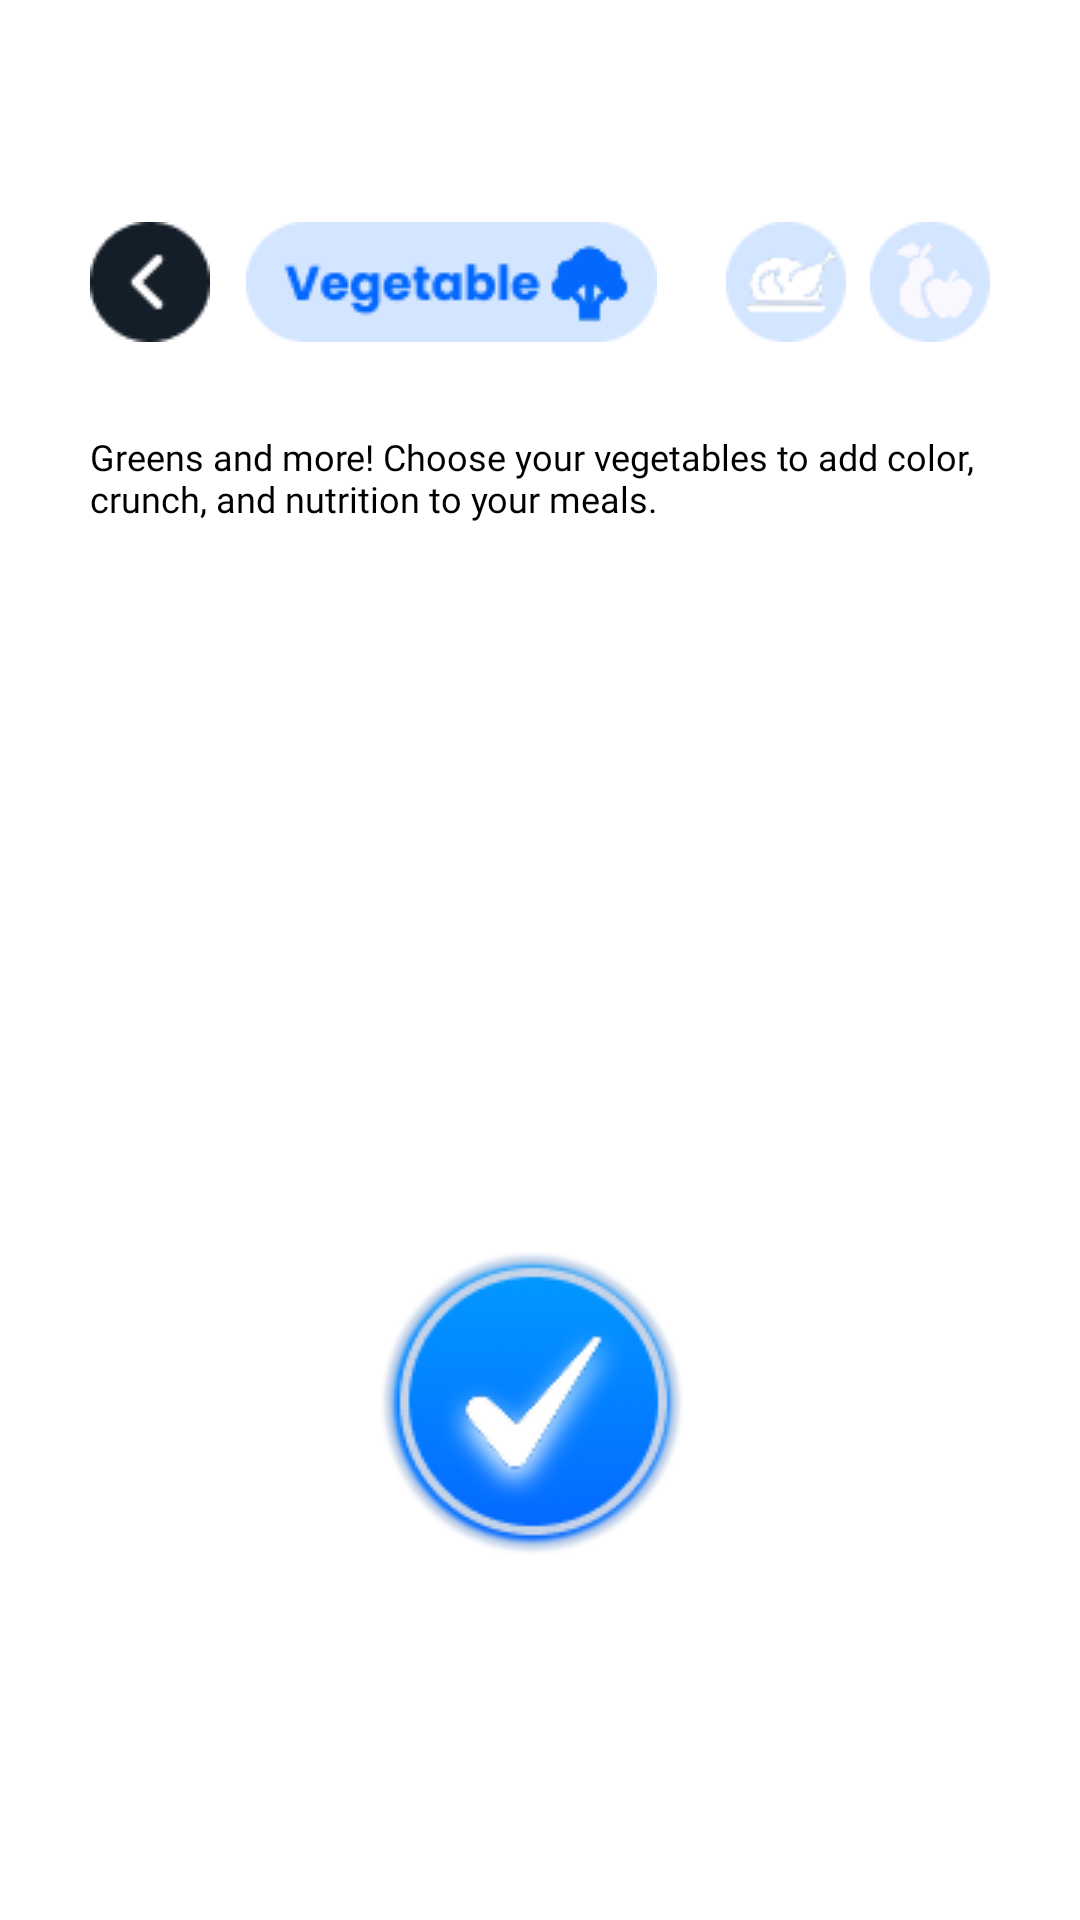

Where icons sit on this 1080px×1920px app screen, as (left=x1, top=y1, right=x2, bottom=y2):
confirm selection: (left=384, top=1255, right=680, bottom=1551)
next fruit: (left=870, top=222, right=990, bottom=342)
recipe back: (left=90, top=222, right=210, bottom=342)
